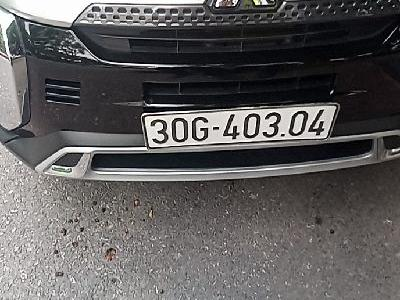car: (139, 102, 340, 148)
